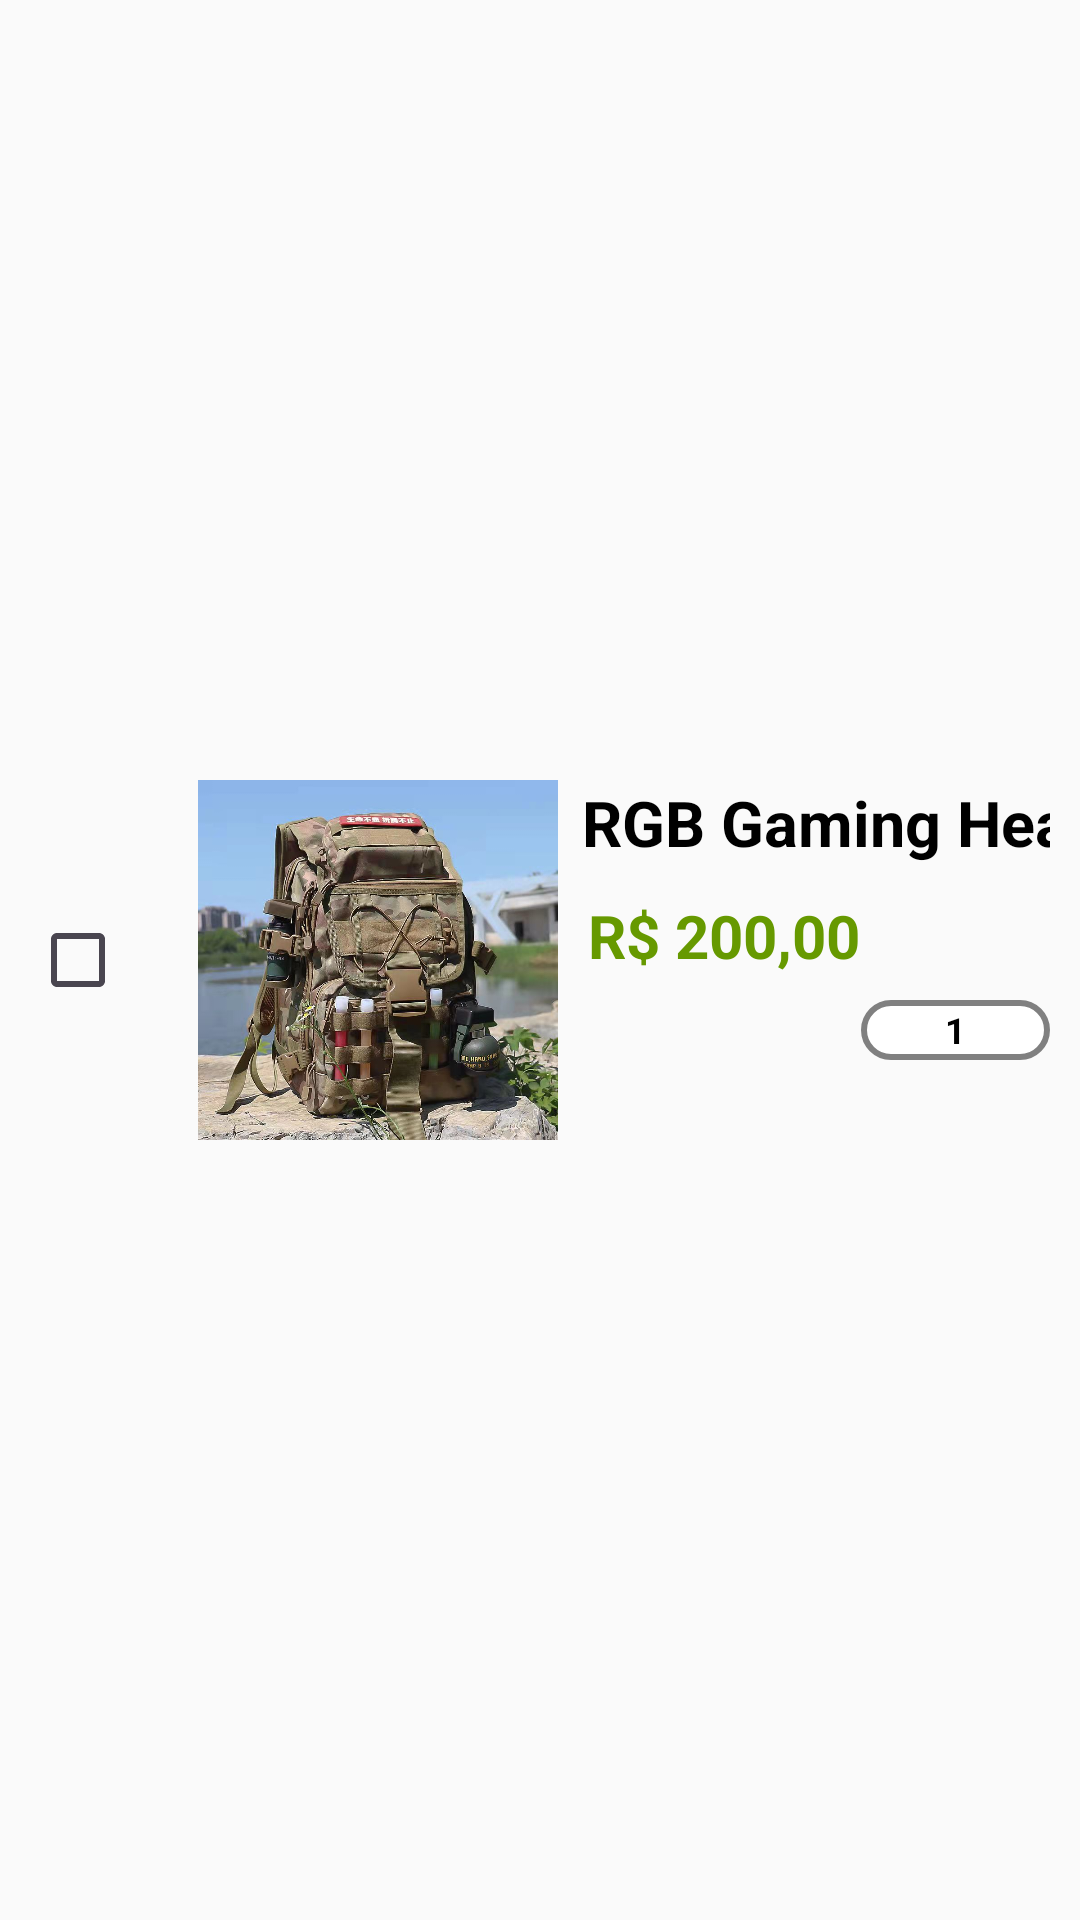

Icon bounding boxes for this 1080×1920 phone screenshot, format [x1=x1, y1=y1, x2=x2, y2=y2]:
backpack: [x1=198, y1=780, x2=558, y2=1140]
